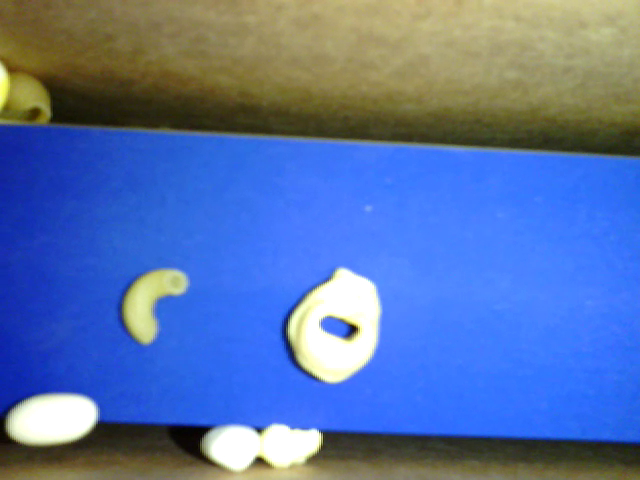elbow: (122, 268, 190, 347)
shell: (3, 72, 53, 128)
tortellini: (285, 266, 384, 384)
